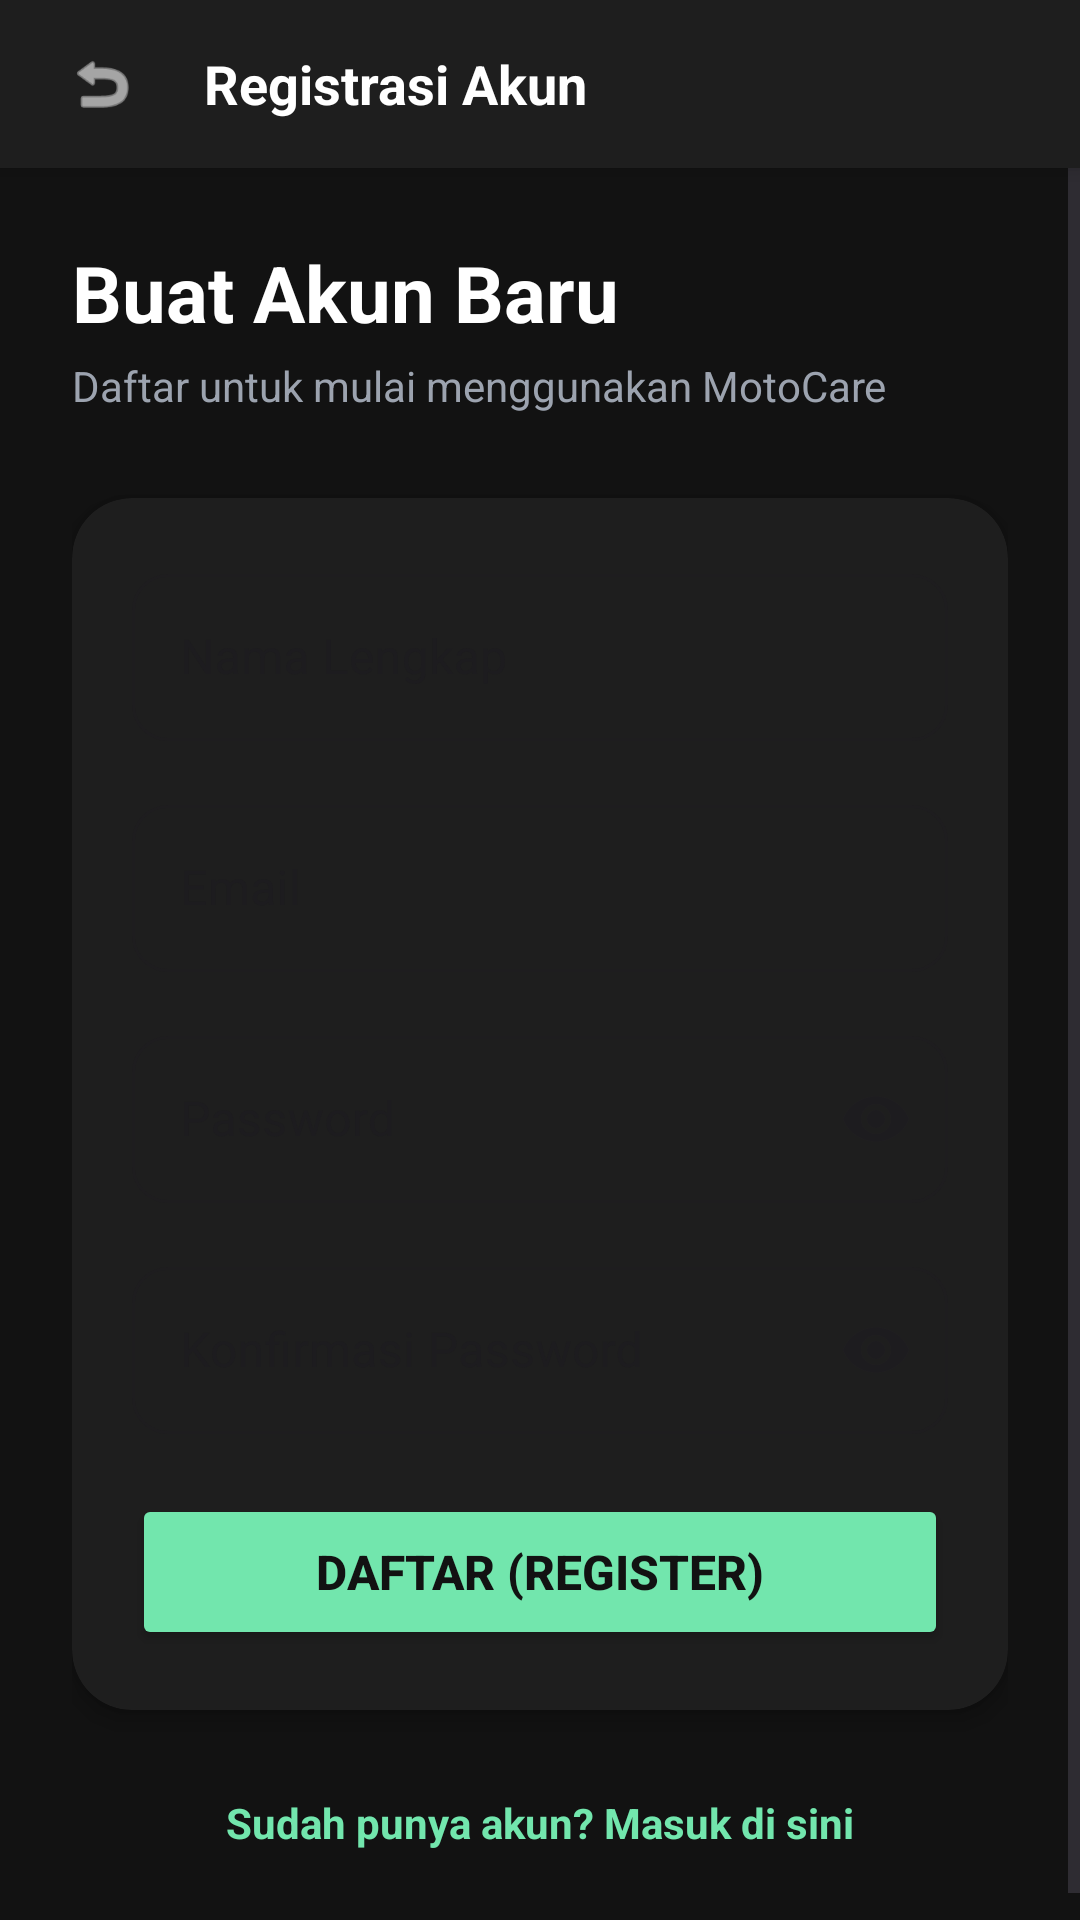

Point at icon controls on the screen. Image size 1080w x 1920h, points as (x,y).
Kembali: (103,84)
